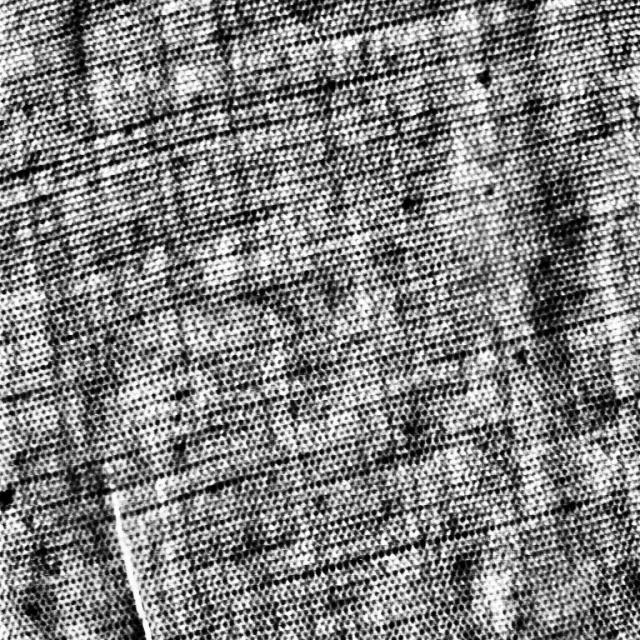Stitch: (104, 466, 158, 639)
